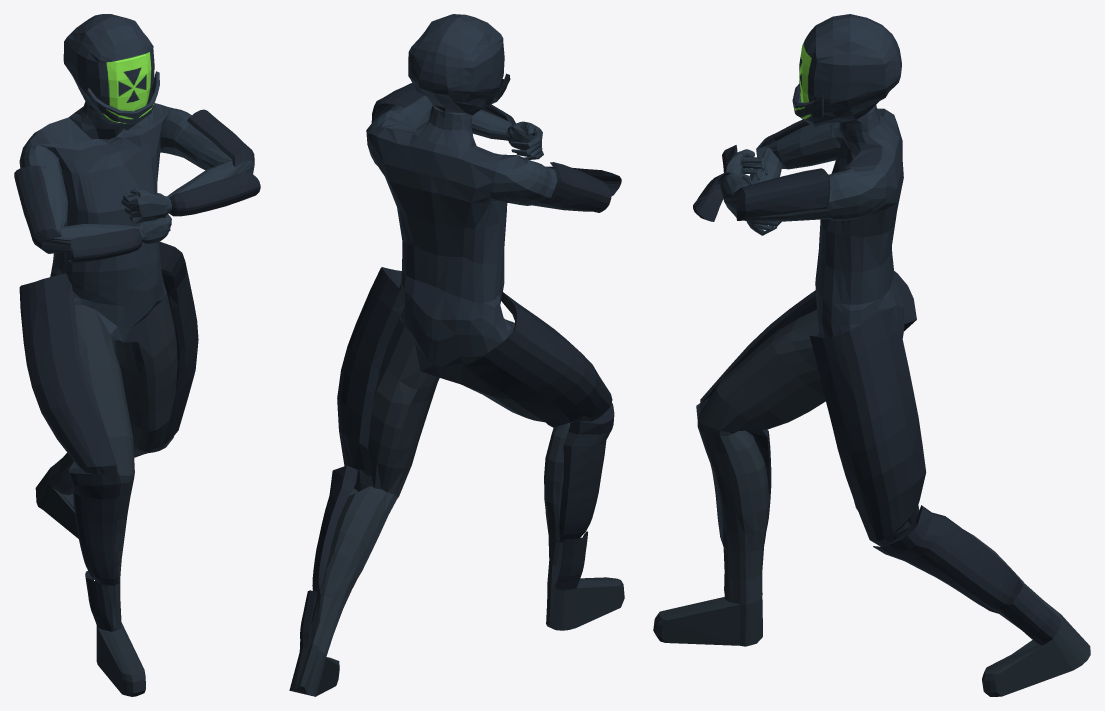
The model's file is Bastion_WL_000012.obj.
3 views of the same model, side by side, from view 1: azimuth 30°, elevation 25°; view 2: azimuth 150°, elevation 25°; view 3: azimuth 270°, elevation 25° (orthographic). The views are drawn at different scales.
Parts seen in each view (by area): view 1: Cube.002; view 2: Cube.002; view 3: Cube.002.
Part boxes in pixels (x1,y1,x2,y2): Cube.002: (14, 14, 260, 696); Cube.002: (289, 14, 624, 696); Cube.002: (653, 14, 1090, 696).
Size of the model in its own units: 1.3 by 3.56 by 2.16.
